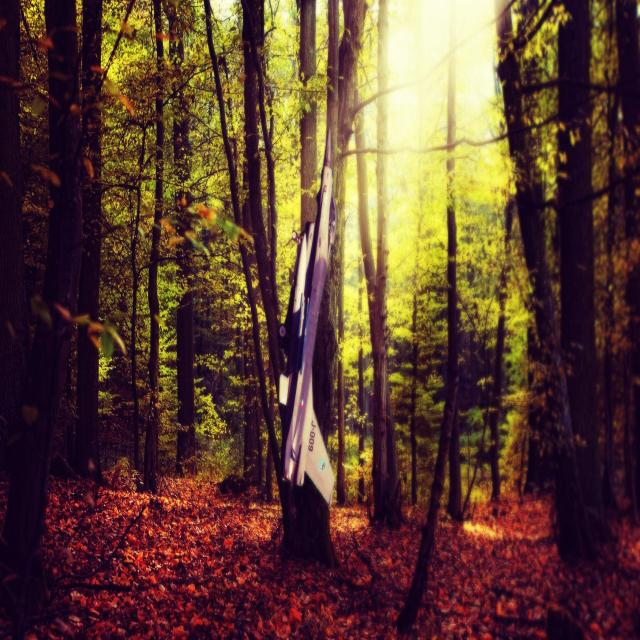airplane: (276, 127, 338, 509)
